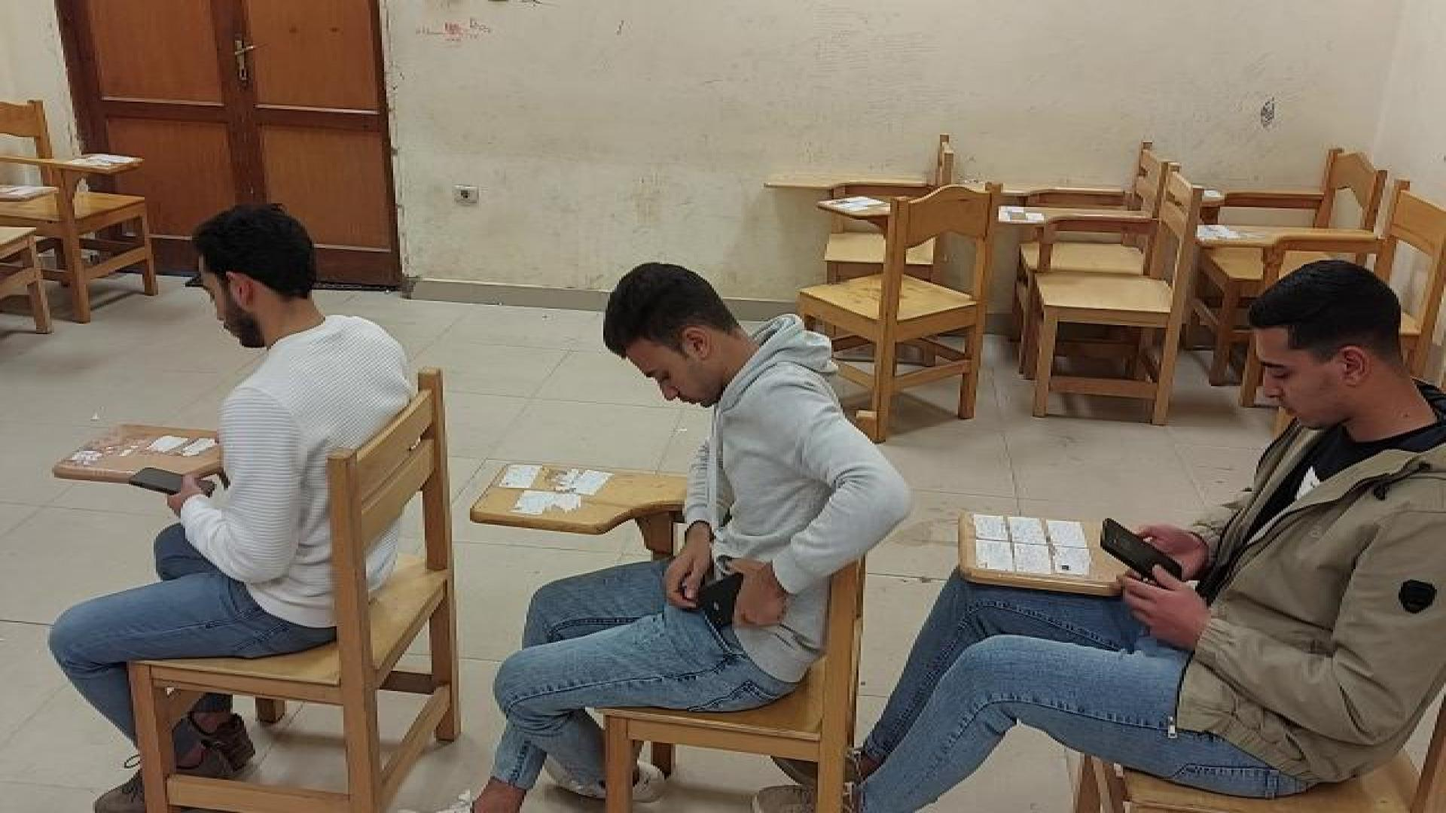phone: (1095, 512, 1194, 588), (123, 463, 220, 509), (687, 578, 755, 627)
